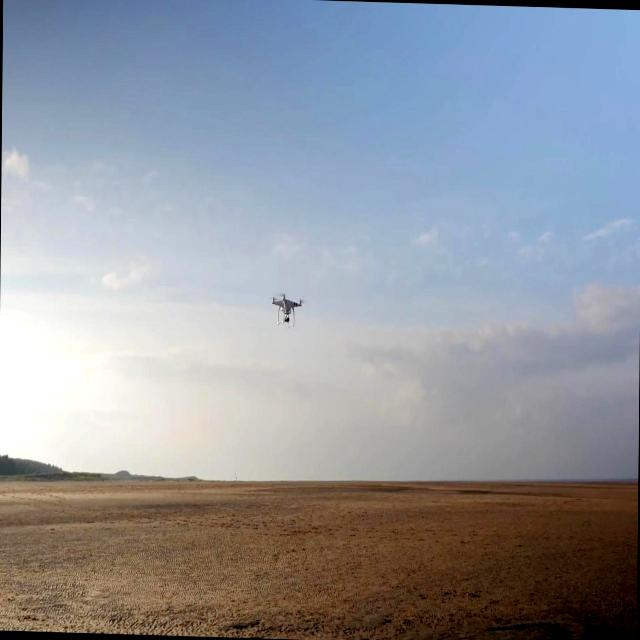drone: (268, 291, 302, 331)
